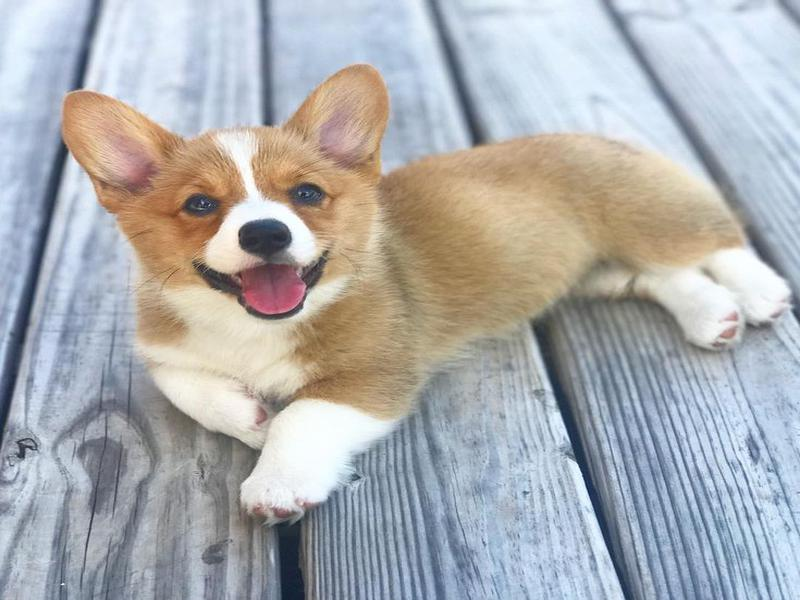corgi: (59, 63, 394, 323)
